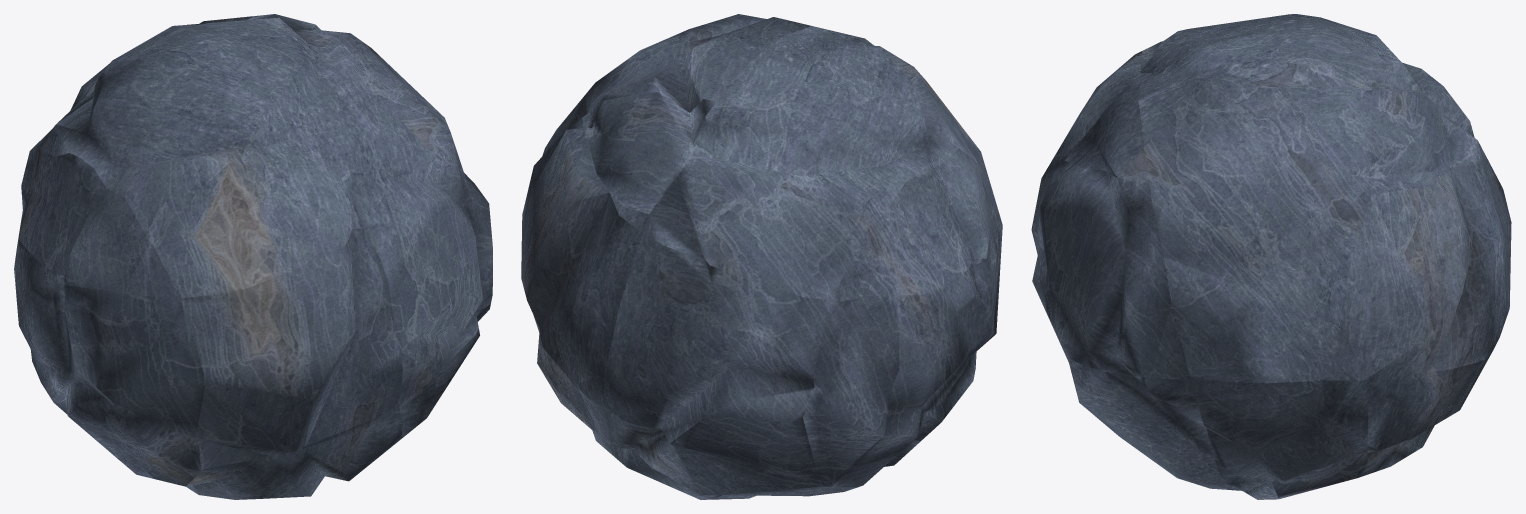
The model's file is Skystone ball braek.fbx.
3 renders of one model, left to right at view 1: azimuth 30°, elevation 25°; view 2: azimuth 150°, elevation 25°; view 3: azimuth 270°, elevation 25°, orthographic.
Parts seen in each view (by area): view 1: Stone Ball_Stone Ball_0.007, Stone Ball_Stone Ball_0.012, Stone Ball_Stone Ball_0.011, Skystone ball, Stone Ball_Stone Ball_0.006, Stone Ball_Stone Ball_0.009, Stone Ball_Stone Ball_0.022, Stone Ball_Stone Ball_0.005, Stone Ball_Stone Ball_0.016, Stone Ball_Stone Ball_0.010, Stone Ball_Stone Ball_0.015, Stone Ball_Stone Ball_0.024 (+5 smaller); view 2: Stone Ball_Stone Ball_0.003, Stone Ball_Stone Ball_0.013, Stone Ball_Stone Ball_0.012, Stone Ball_Stone Ball_0.002, Stone Ball_Stone Ball_0.005, Stone Ball_Stone Ball_0.004, Stone Ball_Stone Ball_0.022, Stone Ball_Stone Ball_0.009, Stone Ball_Stone Ball_0.014, Stone Ball_Stone Ball_0.020, Stone Ball_Stone Ball_0.021, Stone Ball_Stone Ball_0.023 (+5 smaller); view 3: Stone Ball_Stone Ball_0.001, Stone Ball_Stone Ball_0.009, Stone Ball_Stone Ball_0.002, Skystone ball, Stone Ball_Stone Ball_0, Stone Ball_Stone Ball_0.015, Stone Ball_Stone Ball_0.014, Stone Ball_Stone Ball_0.021, Stone Ball_Stone Ball_0.012, Stone Ball_Stone Ball_0.010, Stone Ball_Stone Ball_0.011, Stone Ball_Stone Ball_0.013 (+2 smaller).
Boxes of the visible parts, x1,y1,x2,y2 form: Stone Ball_Stone Ball_0.007: [179, 227, 402, 469]; Stone Ball_Stone Ball_0.012: [42, 26, 315, 241]; Stone Ball_Stone Ball_0.011: [151, 135, 364, 298]; Skystone ball: [365, 137, 492, 400]; Stone Ball_Stone Ball_0.006: [96, 293, 204, 470]; Stone Ball_Stone Ball_0.009: [194, 14, 435, 136]; Stone Ball_Stone Ball_0.022: [19, 151, 151, 293]; Stone Ball_Stone Ball_0.005: [15, 222, 131, 453]; Stone Ball_Stone Ball_0.016: [186, 401, 402, 499]; Stone Ball_Stone Ball_0.010: [316, 119, 435, 227]; Stone Ball_Stone Ball_0.015: [398, 304, 490, 441]; Stone Ball_Stone Ball_0.024: [124, 243, 178, 297]; Stone Ball_Stone Ball_0.003: [604, 233, 833, 469]; Stone Ball_Stone Ball_0.013: [643, 101, 870, 300]; Stone Ball_Stone Ball_0.012: [717, 26, 975, 225]; Stone Ball_Stone Ball_0.002: [521, 128, 642, 408]; Stone Ball_Stone Ball_0.005: [853, 222, 996, 467]; Stone Ball_Stone Ball_0.004: [803, 295, 899, 469]; Stone Ball_Stone Ball_0.022: [871, 148, 990, 295]; Stone Ball_Stone Ball_0.009: [582, 14, 811, 127]; Stone Ball_Stone Ball_0.014: [584, 92, 716, 232]; Stone Ball_Stone Ball_0.020: [605, 409, 827, 499]; Stone Ball_Stone Ball_0.021: [533, 315, 623, 464]; Stone Ball_Stone Ball_0.023: [833, 226, 891, 301]; Stone Ball_Stone Ball_0.001: [1149, 179, 1371, 383]; Stone Ball_Stone Ball_0.009: [1138, 34, 1372, 185]; Stone Ball_Stone Ball_0.002: [1369, 159, 1506, 379]; Skystone ball: [1040, 160, 1190, 379]; Stone Ball_Stone Ball_0: [1191, 379, 1368, 499]; Stone Ball_Stone Ball_0.015: [1067, 357, 1228, 489]; Stone Ball_Stone Ball_0.014: [1371, 57, 1483, 180]; Stone Ball_Stone Ball_0.021: [1367, 358, 1488, 474]; Stone Ball_Stone Ball_0.012: [1140, 14, 1372, 84]; Stone Ball_Stone Ball_0.010: [1065, 85, 1148, 179]; Stone Ball_Stone Ball_0.011: [1056, 51, 1141, 156]; Stone Ball_Stone Ball_0.013: [1372, 34, 1485, 158].
Size of the model in its own units: 202 by 203 by 201.
